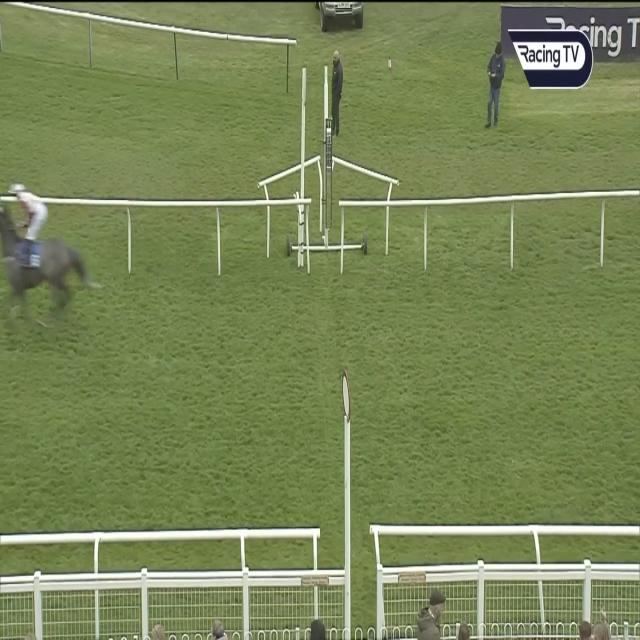horses-racing: (0, 182, 92, 332)
